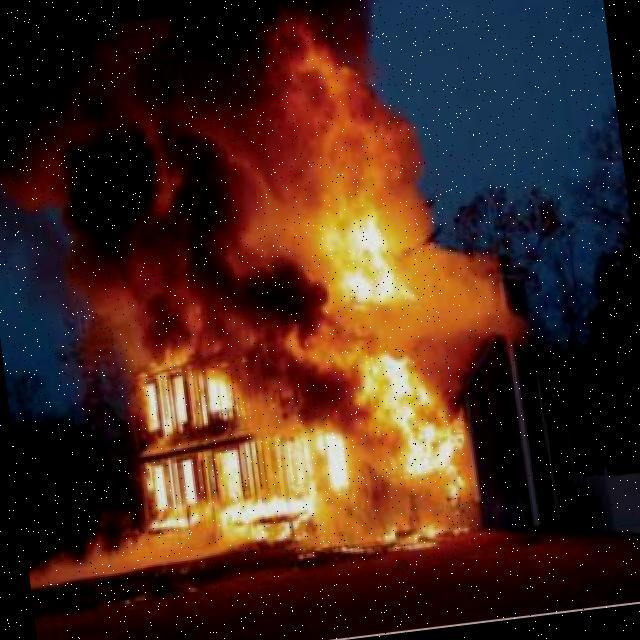Fire: (131, 414, 327, 563), (355, 345, 478, 501), (318, 192, 412, 317), (131, 345, 240, 435), (329, 517, 475, 562)
Smoke: (301, 296, 526, 363), (401, 179, 505, 309), (231, 337, 310, 421), (305, 357, 365, 446)
